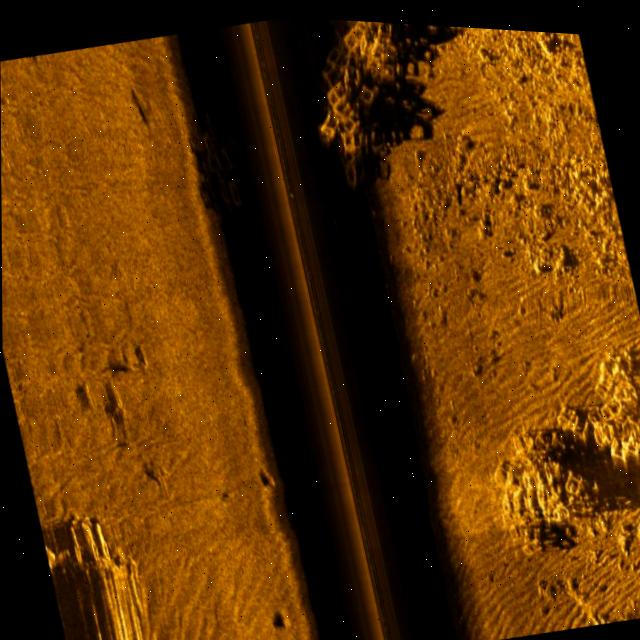artificial reef: (452, 280, 640, 521), (298, 14, 416, 144), (157, 52, 245, 175)
